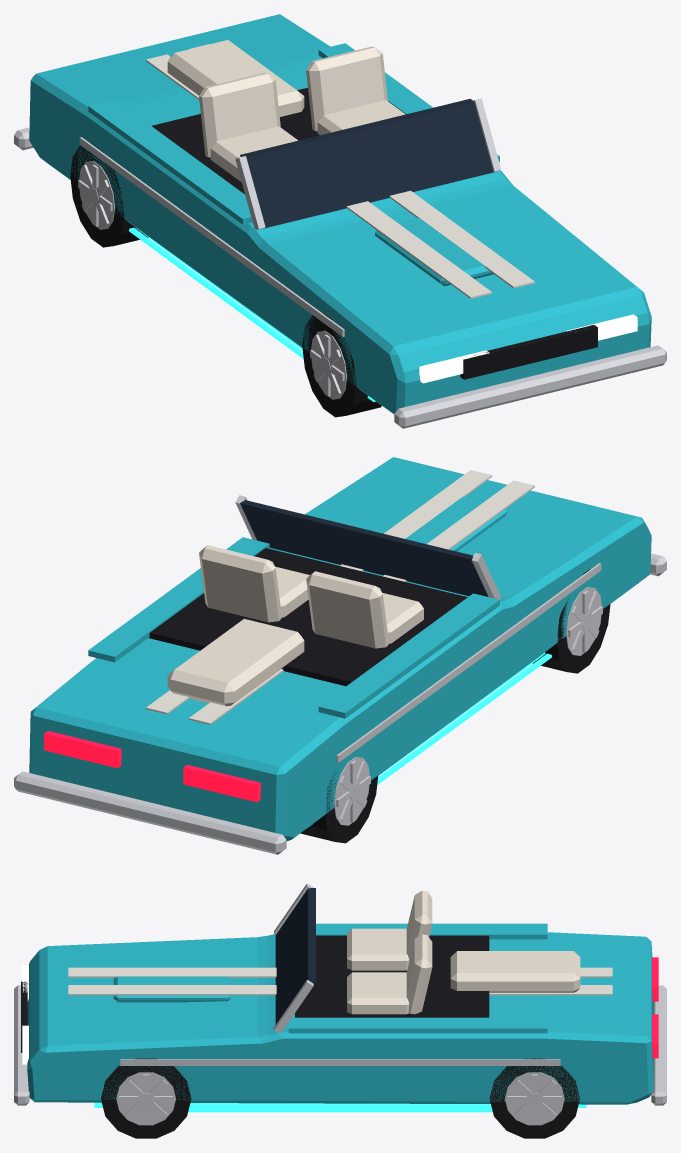
Rendered from car_muscle.glb.
3 renders of one model, top to bottom at view 1: azimuth 30°, elevation 25°; view 2: azimuth 150°, elevation 25°; view 3: azimuth 270°, elevation 25°, orthographic. The views are drawn at different scales.
Visible parts, largest first — view 1: car_muscle, Wheel_FR, Wheel_RR; view 2: car_muscle, Wheel_FR, Wheel_RR; view 3: car_muscle, Wheel_FL, Wheel_RL.
Part boxes in pixels (x1,y1,x2,y2): car_muscle: [14, 14, 666, 428]; Wheel_FR: [302, 313, 381, 417]; Wheel_RR: [70, 143, 148, 247]; car_muscle: [14, 457, 666, 854]; Wheel_FR: [533, 569, 610, 673]; Wheel_RR: [300, 757, 378, 843]; car_muscle: [14, 883, 666, 1112]; Wheel_FL: [101, 1058, 191, 1138]; Wheel_RL: [489, 1058, 579, 1138].
Size of the model in its own units: 2 by 1.38 by 5.04.
